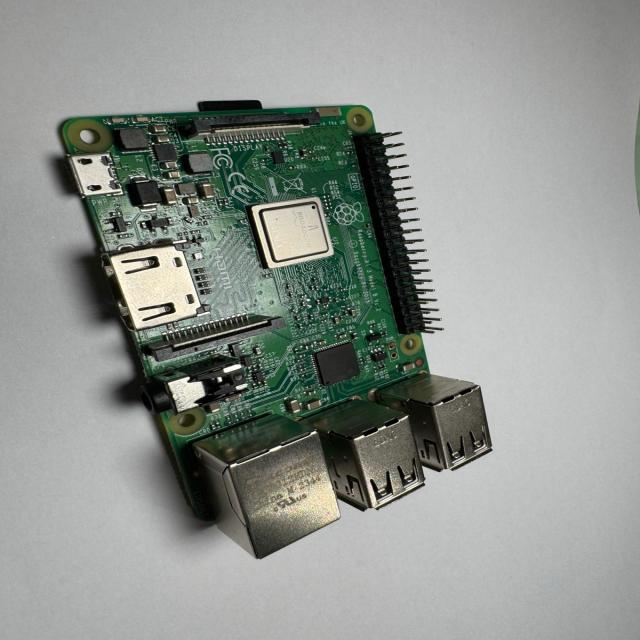CPU: (247, 197, 335, 271)
Ethernet: (186, 432, 340, 561)
GPIO: (353, 131, 444, 337)
HDMI: (105, 246, 203, 330)
RAM-3: (310, 341, 362, 389)
Raspberry: (56, 101, 493, 562)
